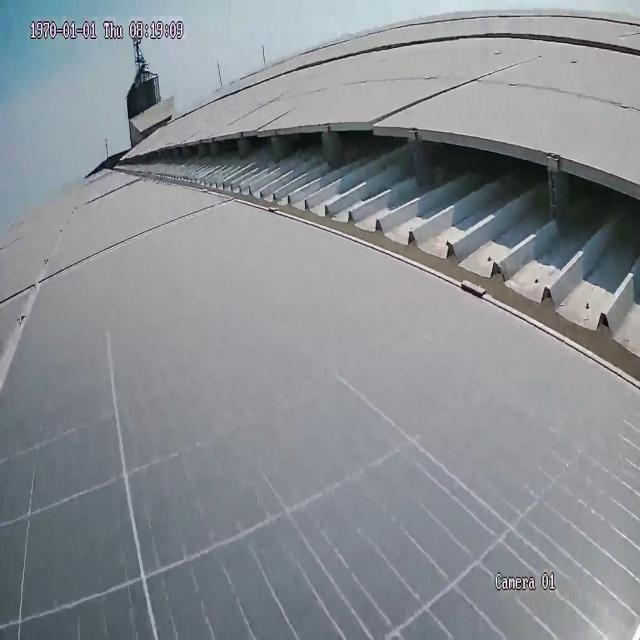interior panel: (5, 201, 70, 369)
outher panel: (119, 121, 640, 390)
